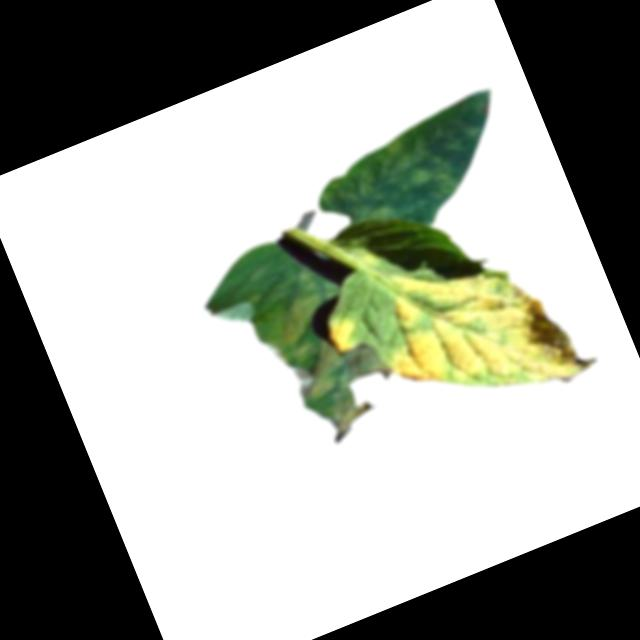Leaf_Mold: (362, 222, 586, 441), (243, 251, 410, 455), (315, 85, 523, 241)
